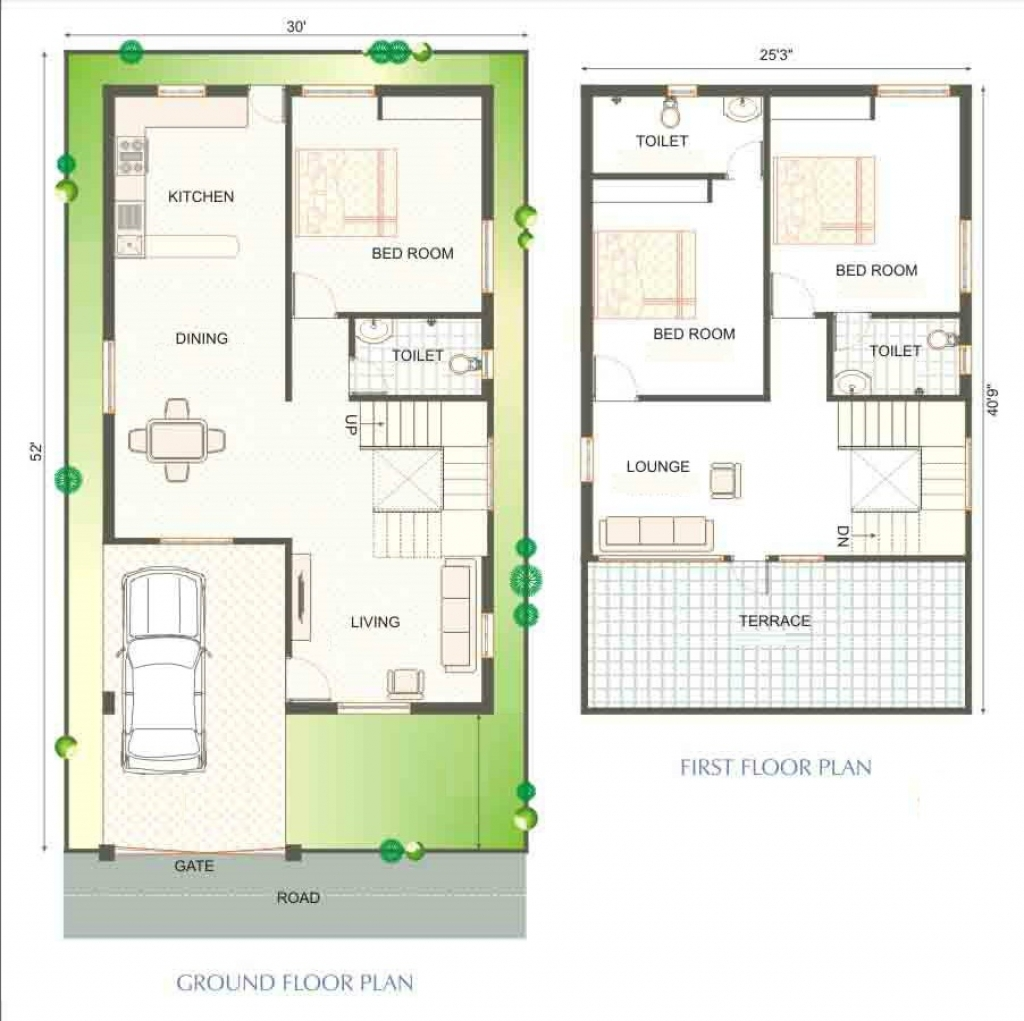door: (306, 652, 335, 701)
room: (285, 87, 495, 404), (99, 81, 294, 412), (100, 410, 499, 538), (282, 541, 497, 723), (346, 310, 495, 403)
wall: (282, 84, 295, 407), (577, 174, 592, 406), (105, 83, 114, 334), (766, 81, 871, 101), (103, 415, 119, 543), (832, 389, 975, 403), (762, 86, 768, 401), (763, 100, 769, 401), (334, 310, 492, 321), (346, 390, 495, 401), (580, 474, 595, 570), (822, 555, 975, 564), (702, 84, 777, 101), (823, 314, 837, 404), (579, 83, 592, 175), (285, 541, 294, 670), (637, 392, 766, 401), (411, 701, 492, 715), (282, 698, 334, 718), (580, 83, 666, 95), (474, 654, 494, 704), (866, 310, 962, 318), (962, 297, 974, 344), (106, 534, 157, 543), (237, 538, 289, 543), (819, 309, 840, 318)
window: (337, 697, 411, 720), (955, 217, 975, 290), (156, 80, 213, 103), (310, 83, 367, 106), (874, 80, 954, 95), (100, 344, 117, 407), (159, 530, 235, 544), (477, 217, 492, 283), (476, 610, 494, 661), (963, 440, 974, 503), (485, 438, 495, 507), (580, 435, 595, 477), (477, 344, 494, 377), (666, 80, 699, 97)
